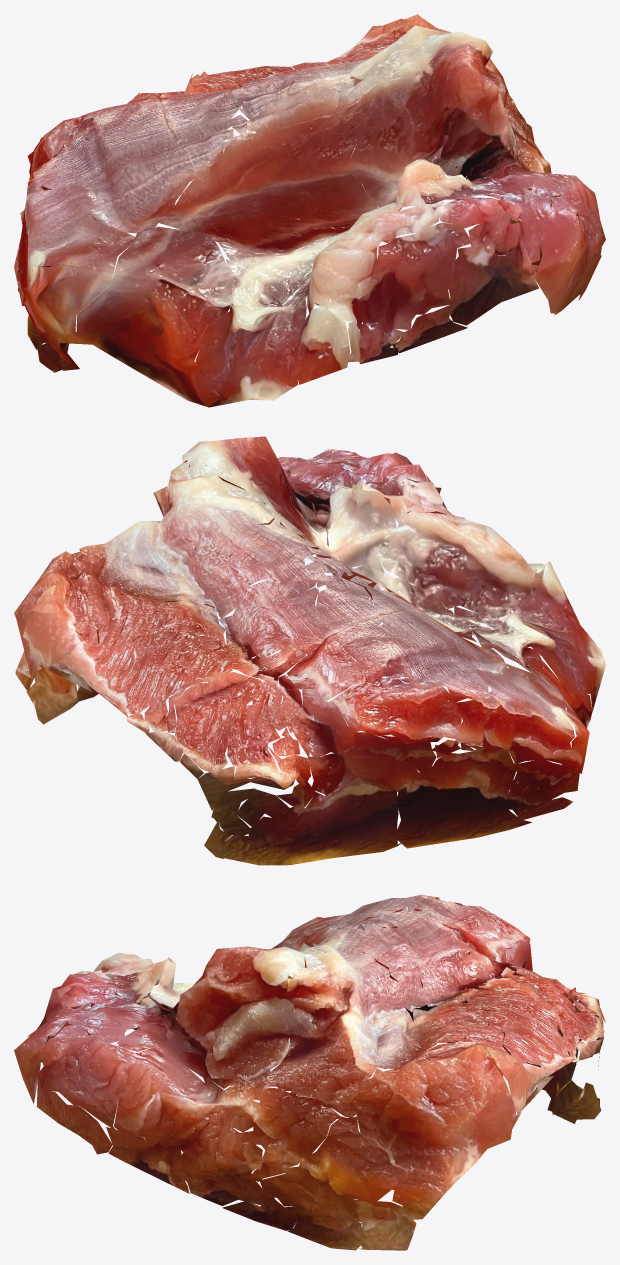
Rendered from meat_raw.glb.
3 views of the same model, one above another, from view 1: azimuth 30°, elevation 25°; view 2: azimuth 150°, elevation 25°; view 3: azimuth 270°, elevation 25° (orthographic). The views are drawn at different scales.
Parts seen in each view (by area): view 1: Object_2; view 2: Object_2; view 3: Object_2.
Part boxes in pixels (x1,y1,x2,y2): Object_2: (14, 14, 605, 407); Object_2: (14, 436, 605, 865); Object_2: (14, 894, 605, 1250).
Size of the model in its own units: 0.9789 by 0.4588 by 0.983.
1 material, 1 textured.
